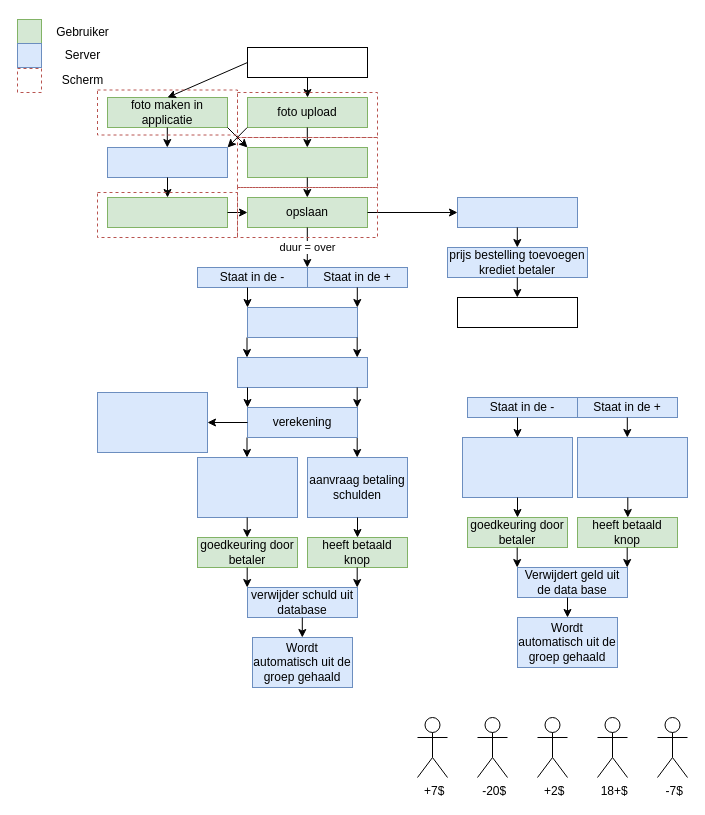
Image size: 705x815. Some labels were removed from this diagram. The centre of each missing label's shape, as x and y in pixels:
afhandeling: the point at 307,62
betalen aan betaler van bestelde producten: the point at 247,487
corrigeren: the point at 167,212
foto uitlezen: the point at 167,162
gegevens bon invullen: the point at 307,162
gekochten producten prijs afhalen krediet: the point at 517,212
koppelen aan betaler / schuldenaar: the point at 302,372
notificatie naar iedereen die met de verekening te maken heeft: the point at 152,422
stuurt betaalverzoek naar de persoon die het hoogst in de + staat: the point at 517,467
stuurt betaalverzoek naar de persoon die verst in de min staat: the point at 632,467
Terug naar Groeps Hoofdscherm: the point at 517,312
verdeeld over producten: the point at 302,322
